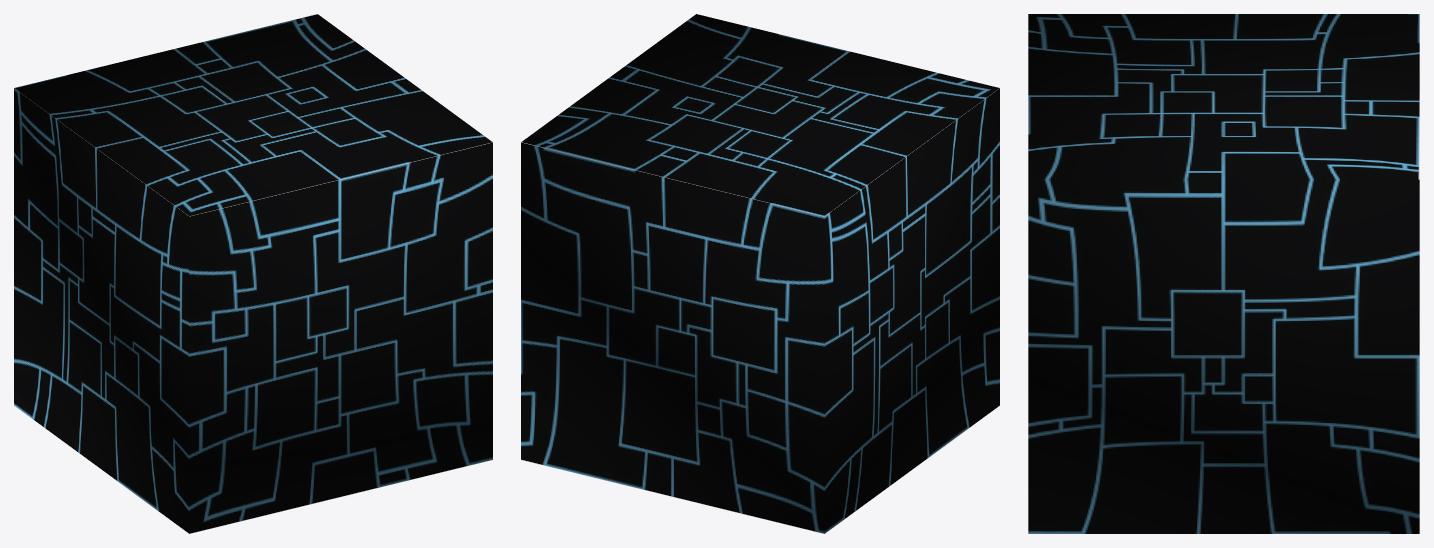
File: eggBox01.glb
The picture shows the model from 3 angles, left to right: view 1: azimuth 30°, elevation 25°; view 2: azimuth 150°, elevation 25°; view 3: azimuth 270°, elevation 25°; orthographic projection. The views are drawn at different scales.
Parts seen in each view (by area): view 1: techSkybox; view 2: techSkybox; view 3: techSkybox.
Part boxes in pixels (bbox=[...]): techSkybox: bbox=[14, 14, 492, 533]; techSkybox: bbox=[521, 14, 999, 533]; techSkybox: bbox=[1028, 14, 1419, 533].
Size of the model in its own units: 200 by 200 by 200.
3 materials, 1 textured.
